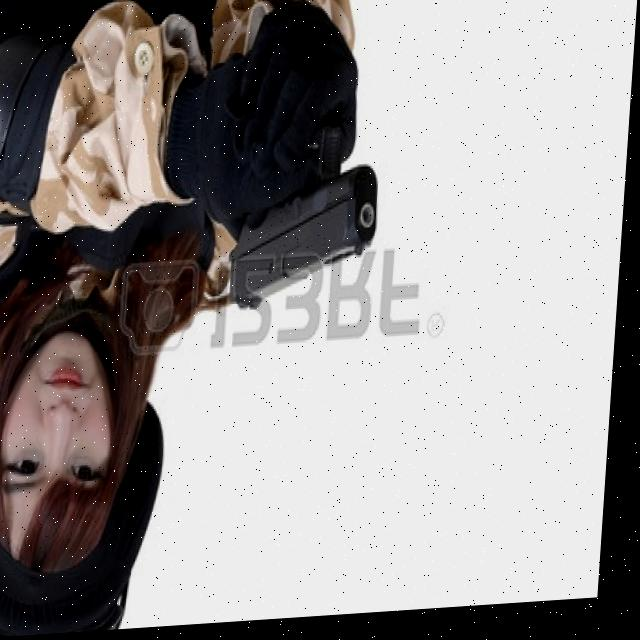pistol: (232, 122, 385, 318)
